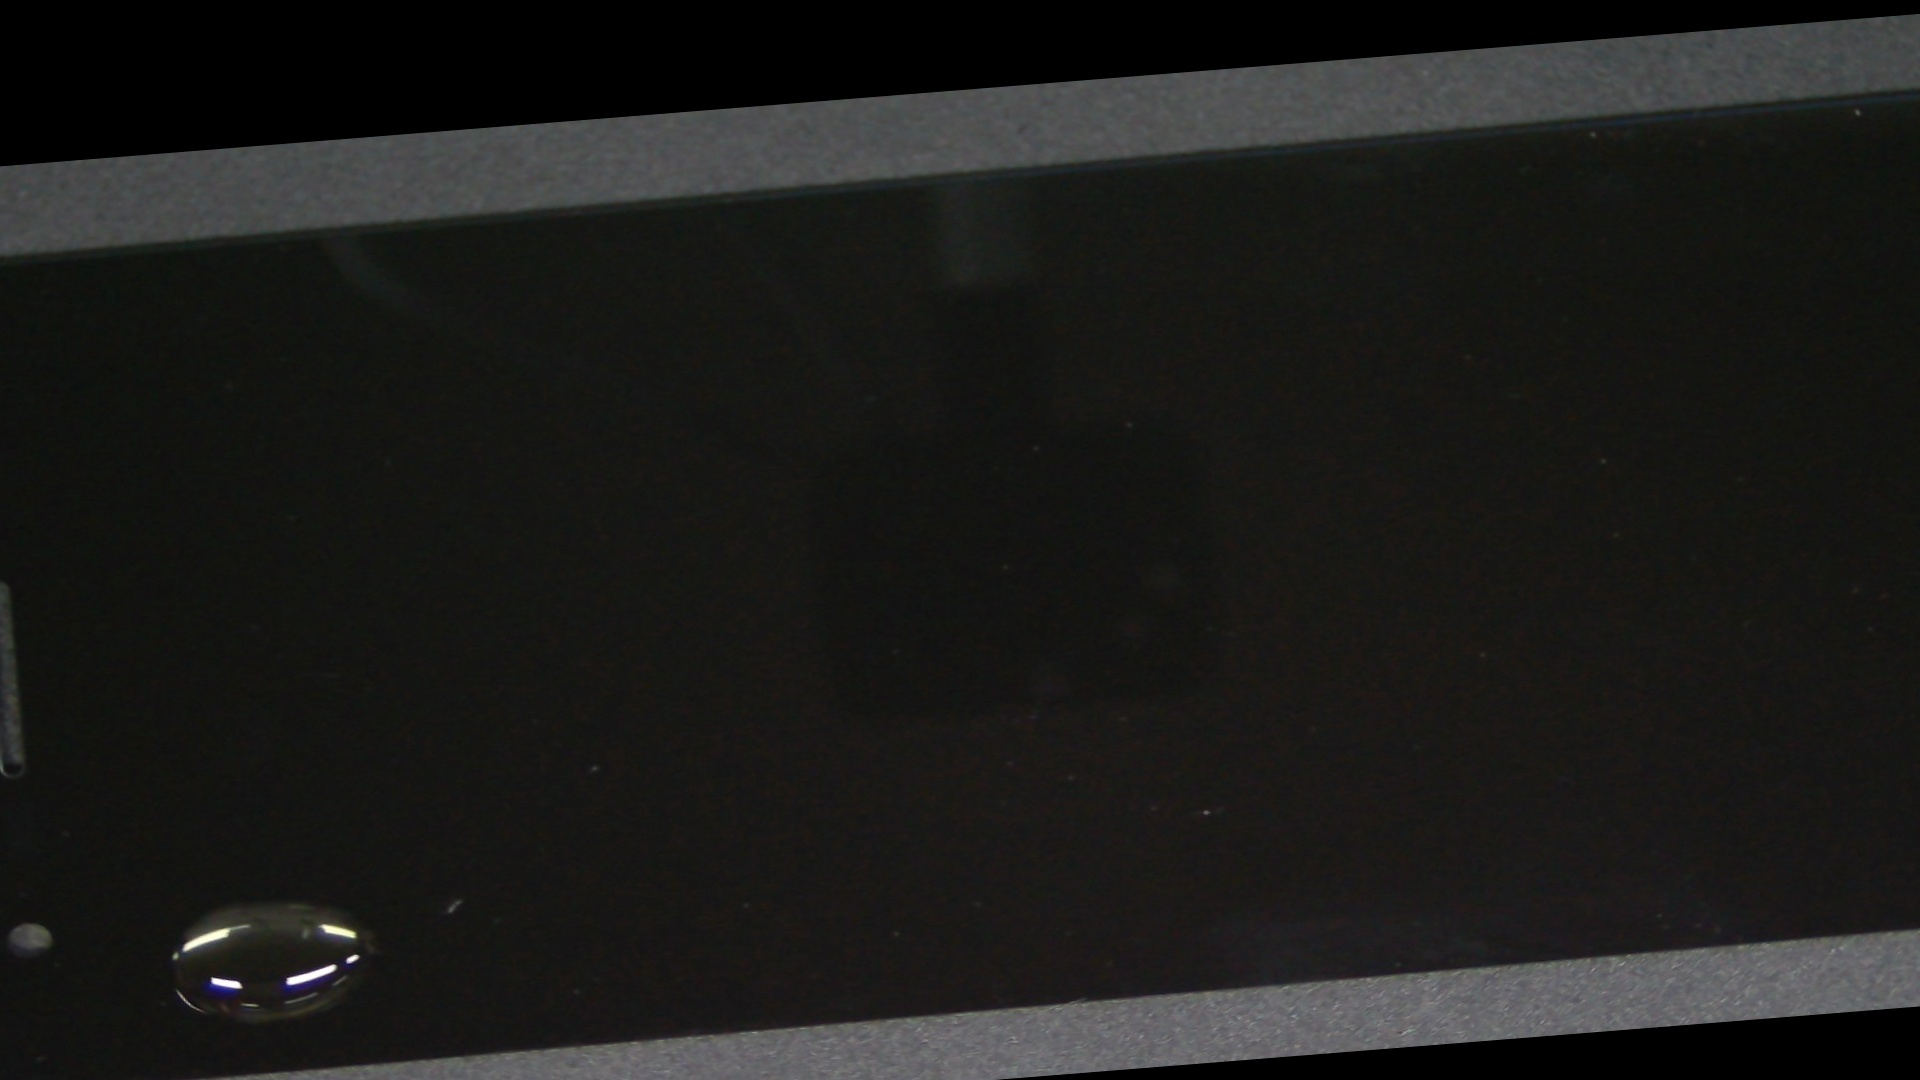oil: (33, 513, 436, 1080)
